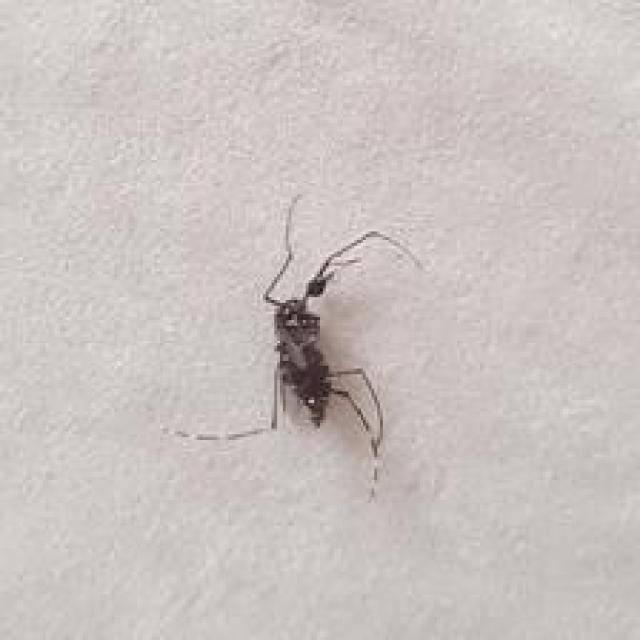Aedes albopictus: (164, 193, 424, 498)
